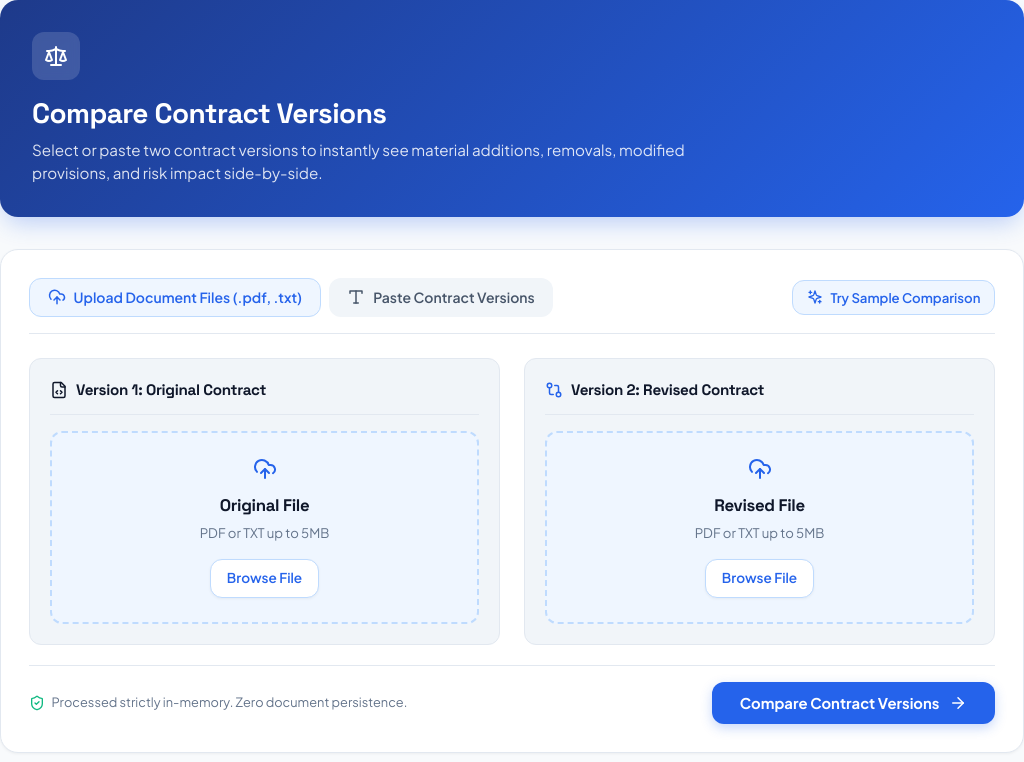
Test: Frontend UI & Error Handling Tests › validates empty inputs on DocumentComparison failure path
This screenshot has width=1024, height=762.
Step 1. Click the button "Paste Contract Versions" → [441, 297], box [329,278,553,317]
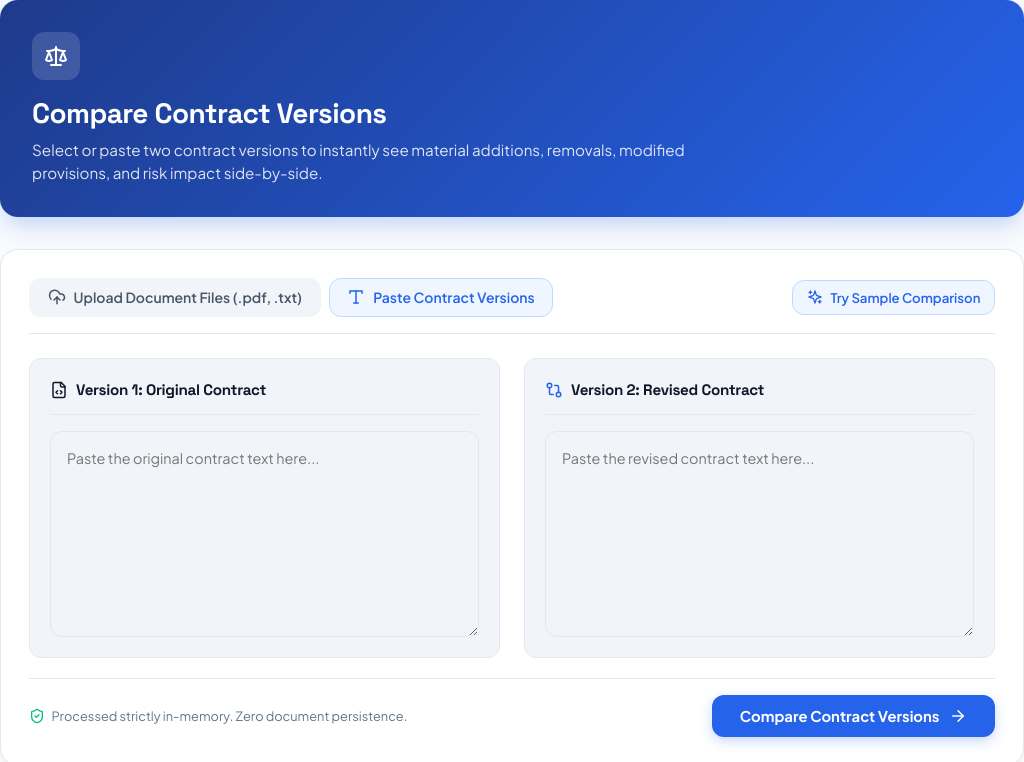
Step 2. Click the button "Compare Contract Versions" → [853, 716], box [712,695,995,737]
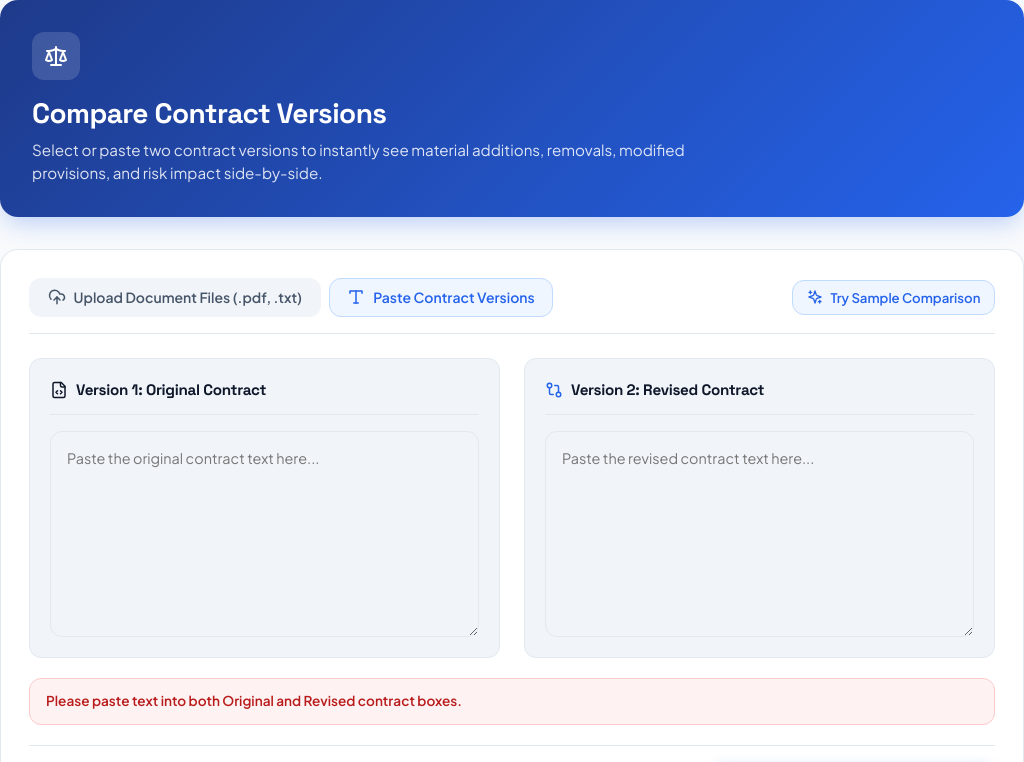
Now the message shows "Please paste text into both Original and Revised", box [46,692,462,709]
